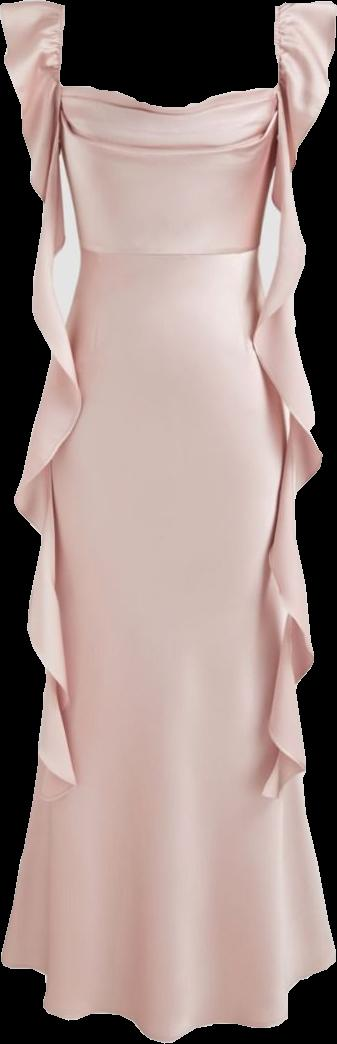Bodice: (58, 81, 279, 260)
Hemline: (255, 308, 329, 778), (15, 324, 85, 785), (0, 947, 336, 1043)
Neckline: (53, 77, 277, 116)
Skirt: (1, 247, 335, 1041)
